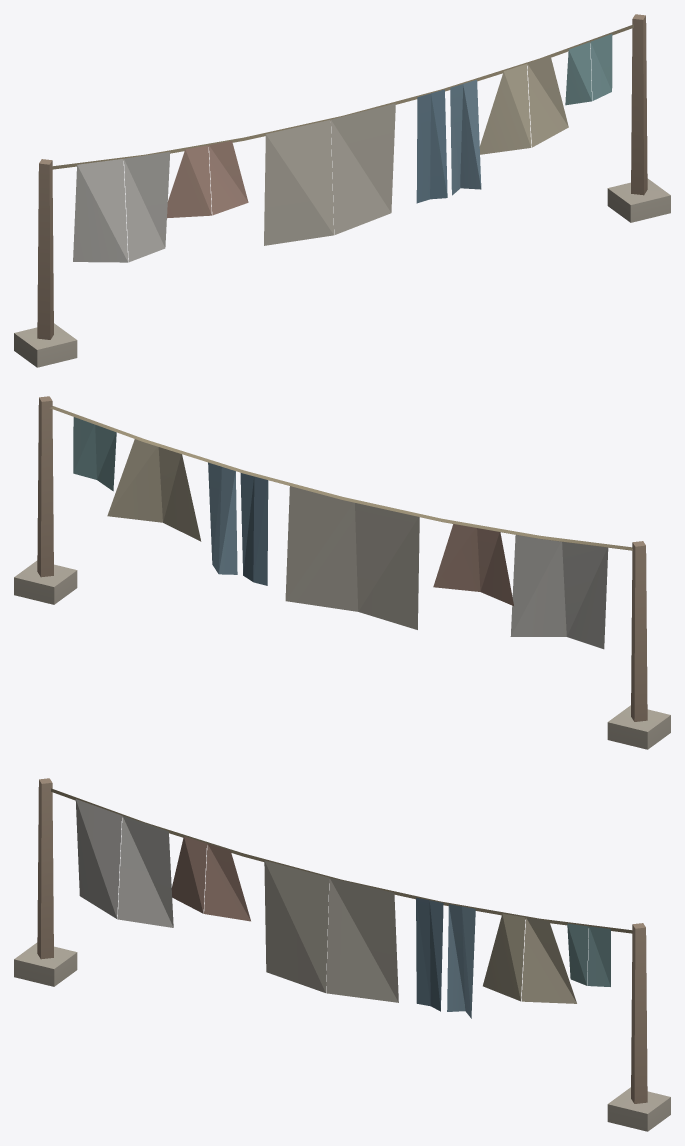
File: laundry.lod1.glb
3 renders of one model, top to bottom at view 1: azimuth 30°, elevation 25°; view 2: azimuth 150°, elevation 25°; view 3: azimuth 330°, elevation 25°, orthographic.
Bounding box in the file's own units: 4.1 × 1.19 × 0.26.
